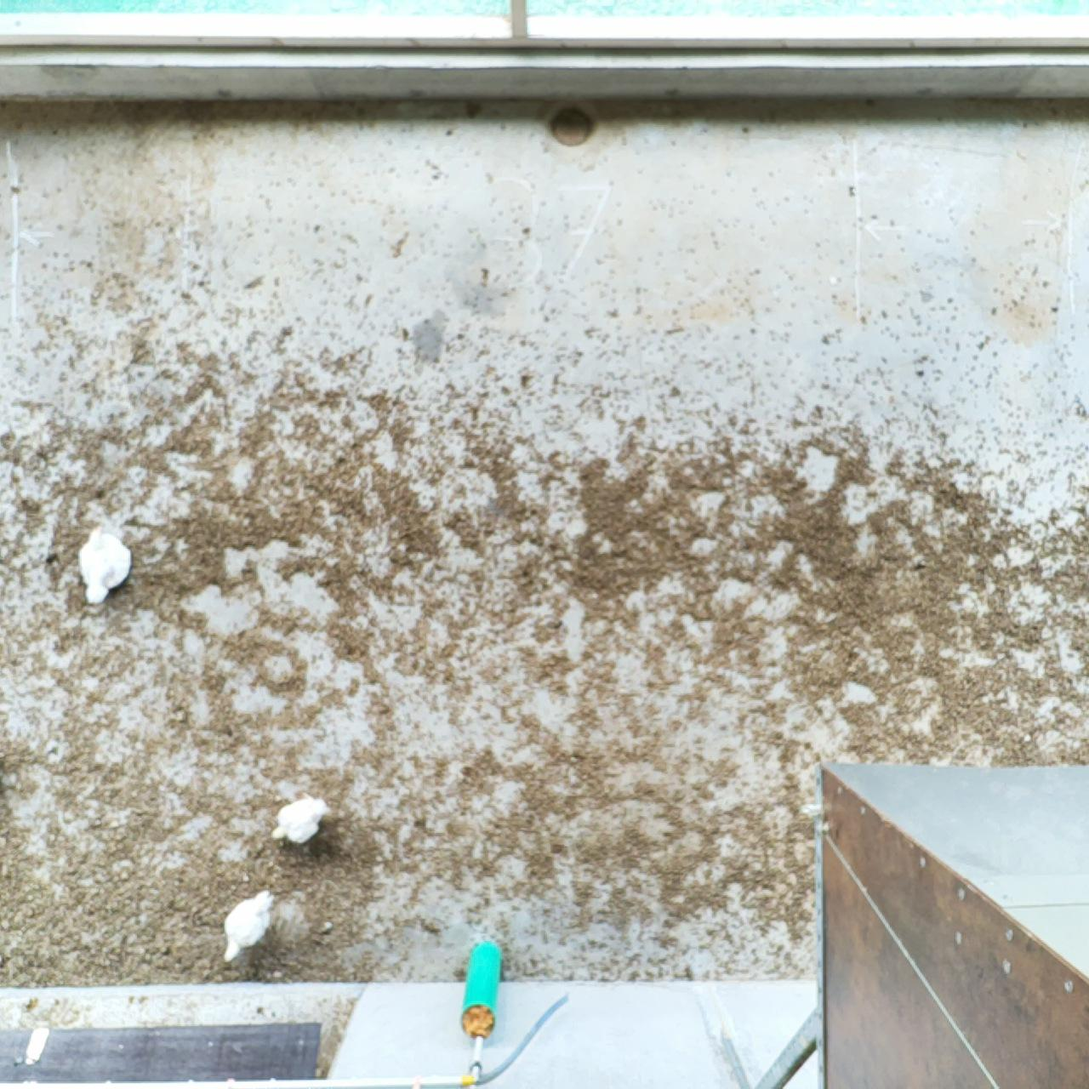chicken: (76, 521, 135, 607), (218, 887, 278, 967), (271, 788, 332, 853)
